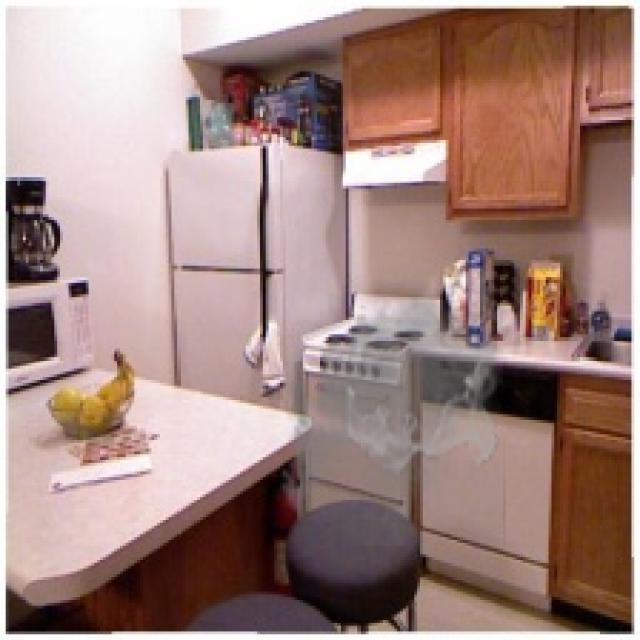Smoke: (274, 274, 506, 546)
